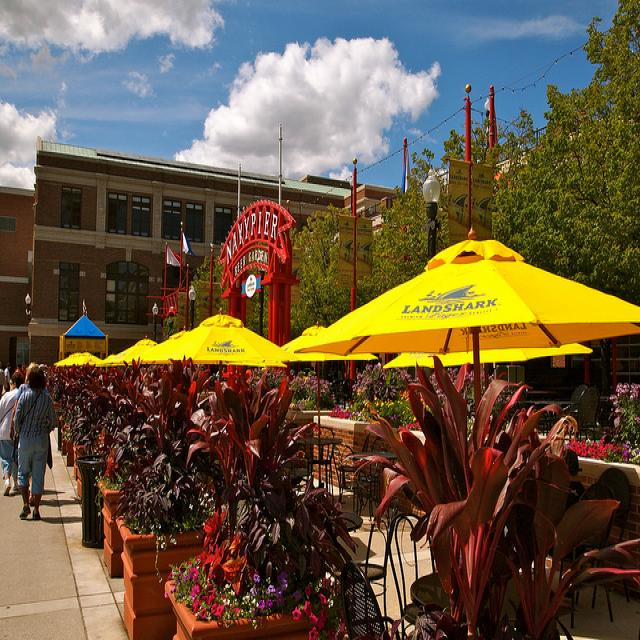chair: (386, 511, 451, 640), (341, 559, 400, 639), (598, 466, 635, 541), (337, 446, 370, 516), (308, 422, 335, 495), (562, 449, 584, 509), (371, 439, 394, 475), (343, 509, 364, 531)
dining table: (297, 436, 343, 445)
